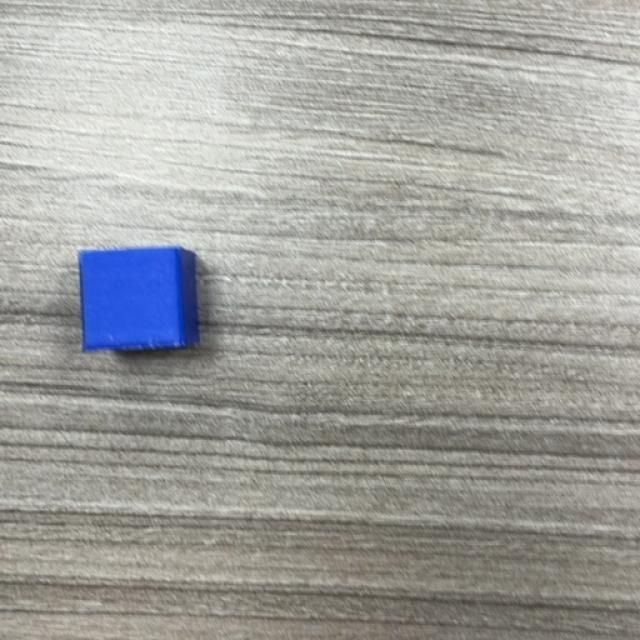Azul: (78, 246, 202, 352)
